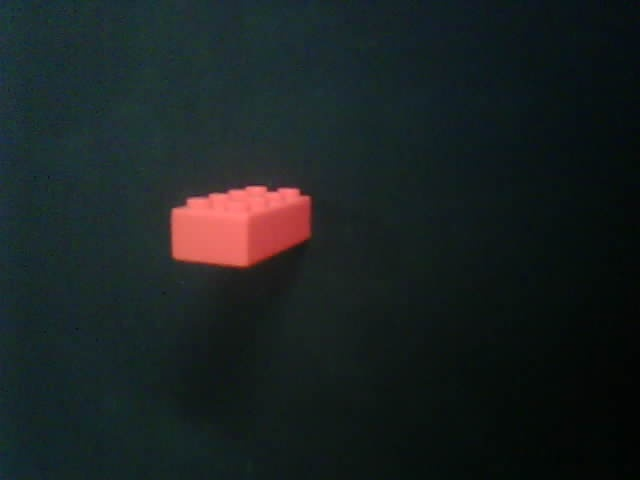lego: (169, 185, 312, 269)
